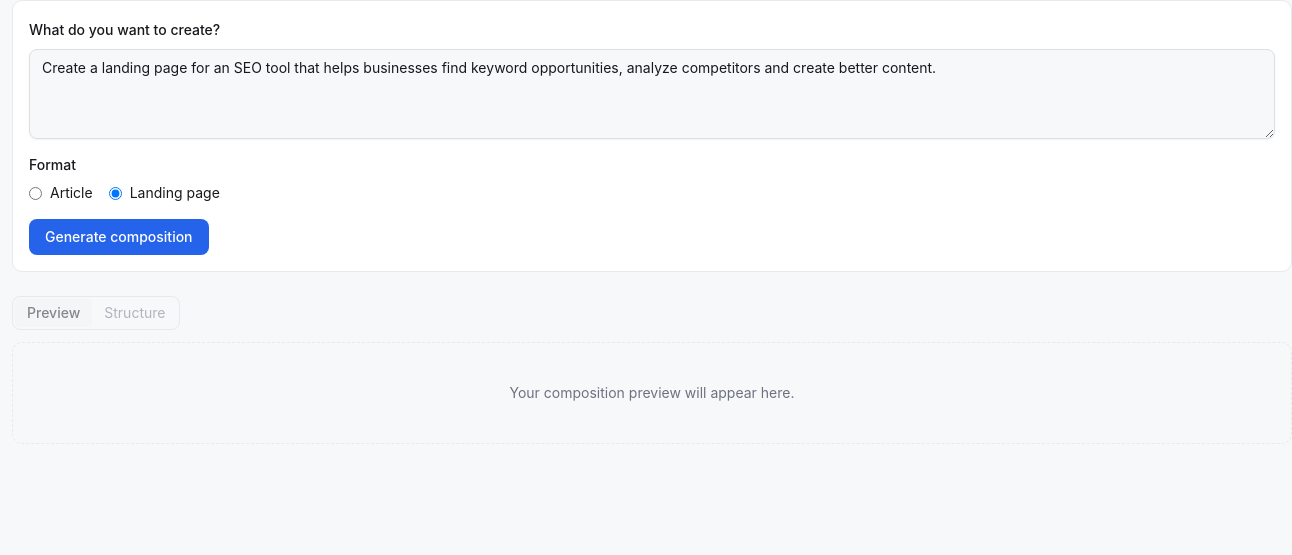
Scenario: Compose › attributes a failure to the planning phase
What coordinates should you click on to do the following:
click the button "Generate composition"
I would click on:
 (119, 237)
Its box is x1=29 y1=219 x2=208 y2=255.
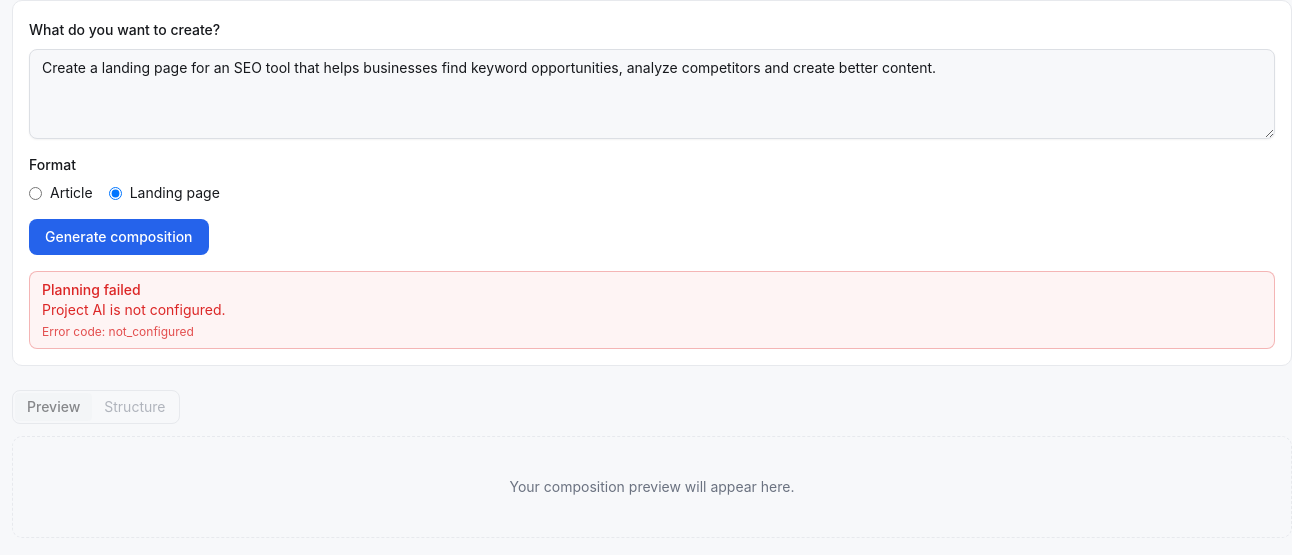
Expected: the text "Your composition preview will appear here." is shown, x1=12 y1=436 x2=1291 y2=538
Now the text "Planning failed" is shown, box x1=42 y1=281 x2=141 y2=298
Now the text "Project AI is not configured." is shown, box x1=42 y1=301 x2=226 y2=318
